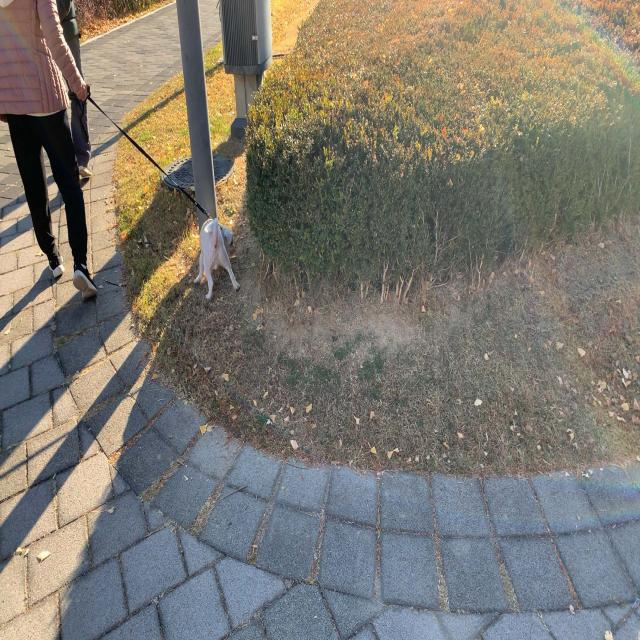Leashed_Dog: (52, 61, 241, 301)
